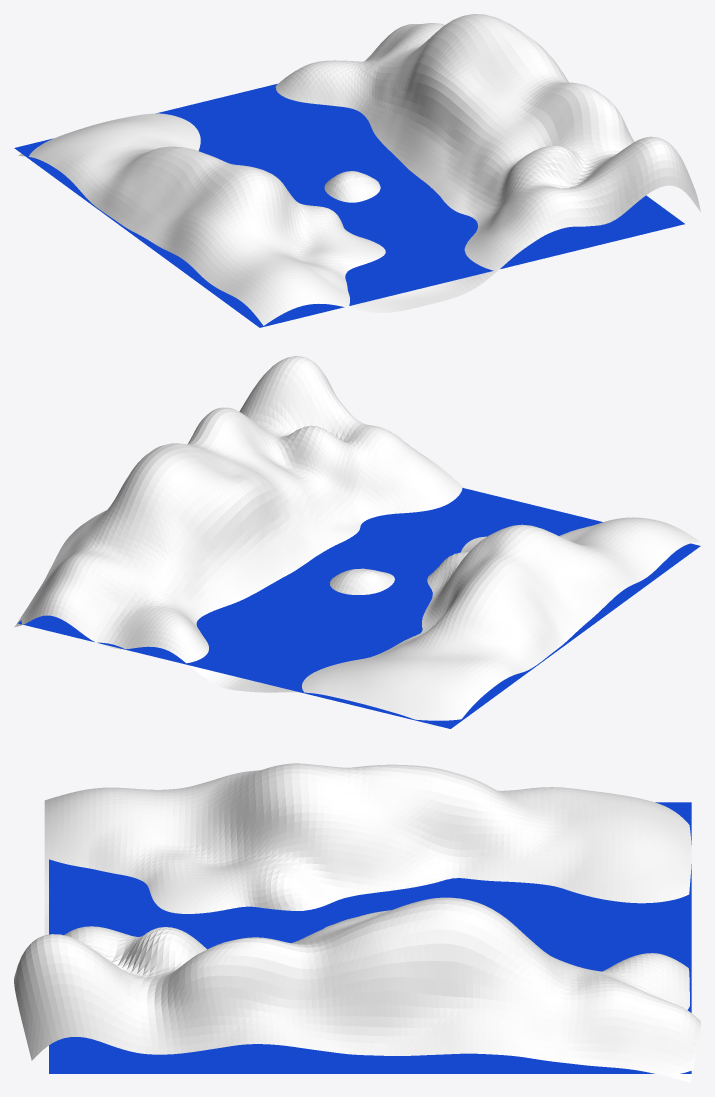
File: largechunktest.glb
3 renders of one model, top to bottom at view 1: azimuth 30°, elevation 25°; view 2: azimuth 150°, elevation 25°; view 3: azimuth 270°, elevation 25°, orthographic. The views are drawn at different scales.
Visible parts, largest first — view 1: Chunk00_00, Plane; view 2: Chunk00_00, Plane; view 3: Chunk00_00, Plane.
Part boxes in pixels (x1=…): Chunk00_00: x1=18, y1=14, x2=700, y2=325; Plane: x1=14, y1=83, x2=684, y2=327; Chunk00_00: x1=14, y1=356, x2=699, y2=734; Plane: x1=17, y1=488, x2=700, y2=728; Chunk00_00: x1=14, y1=763, x2=700, y2=1082; Plane: x1=49, y1=802, x2=691, y2=1073.
Size of the model in its own units: 264 by 69.14 by 267.
